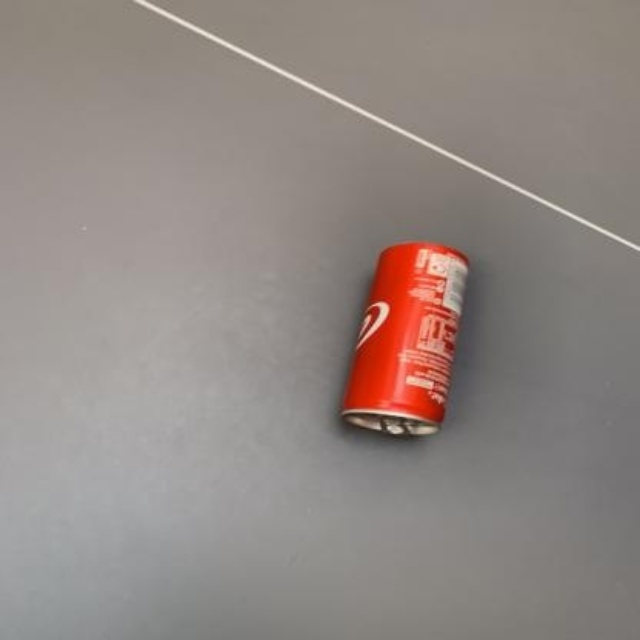trash: (342, 243, 466, 435)
